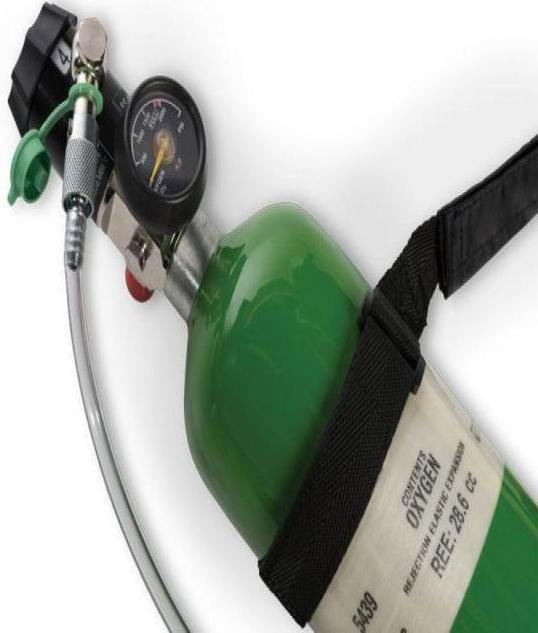cylinder: (1, 1, 538, 633)
